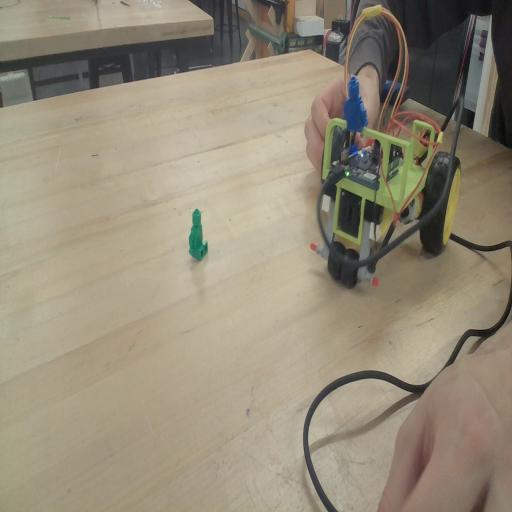blue LEGO minifig: (342, 71, 368, 137)
green LEGO minifig: (187, 202, 209, 264)
